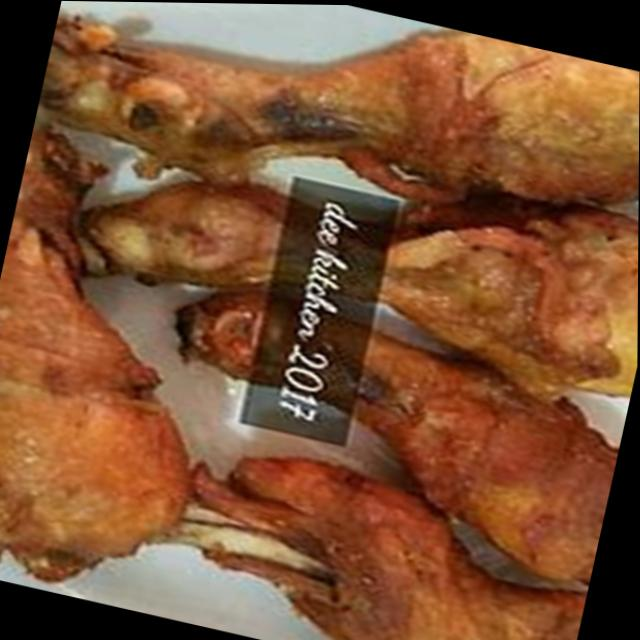CHICKEN FRY: (0, 28, 640, 640)
